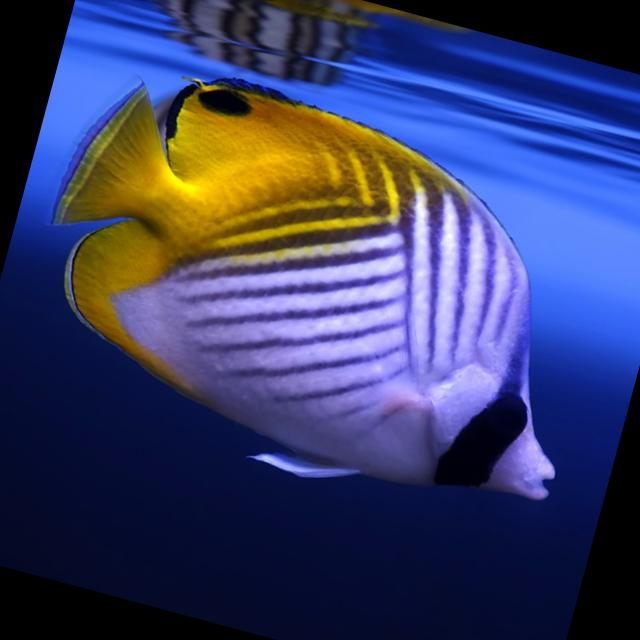ButterflyFish: (10, 40, 639, 537)
